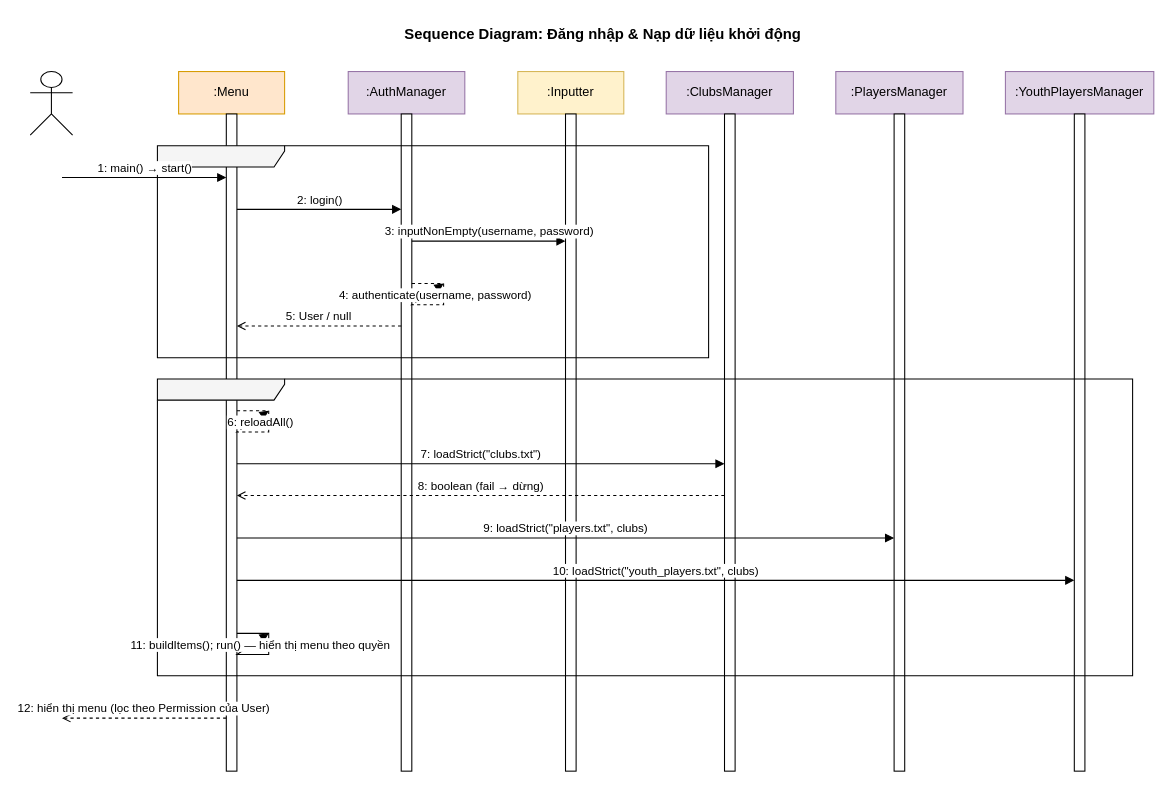
Image size: 1173x790. Some labels were removed from this diagram. The centre of each missing label's shape, as x and y in pixels:
:User: the point at 51,102
Nạp dữ liệu (reloadAll): the point at 644,527
Đăng nhập (tối đa 3 lần): the point at 432,251
